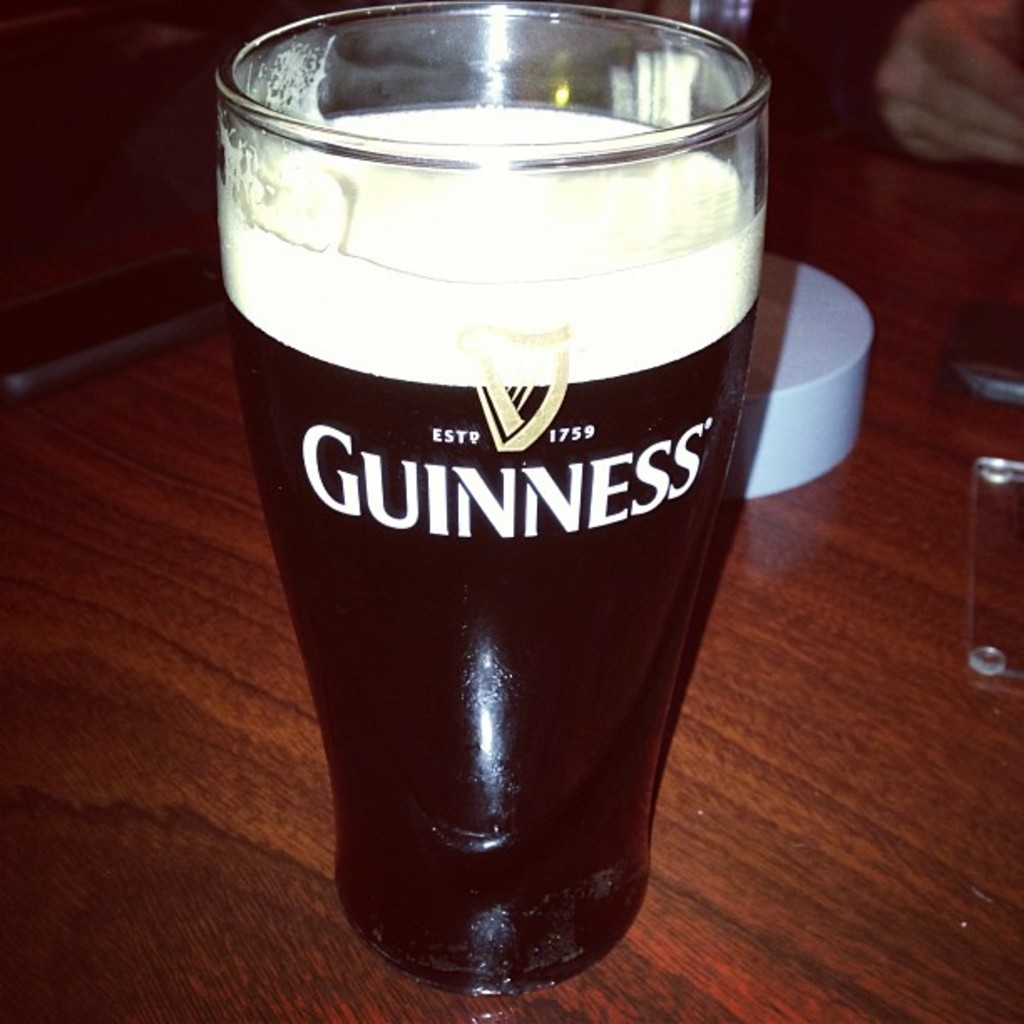Beer: (207, 0, 793, 997)
